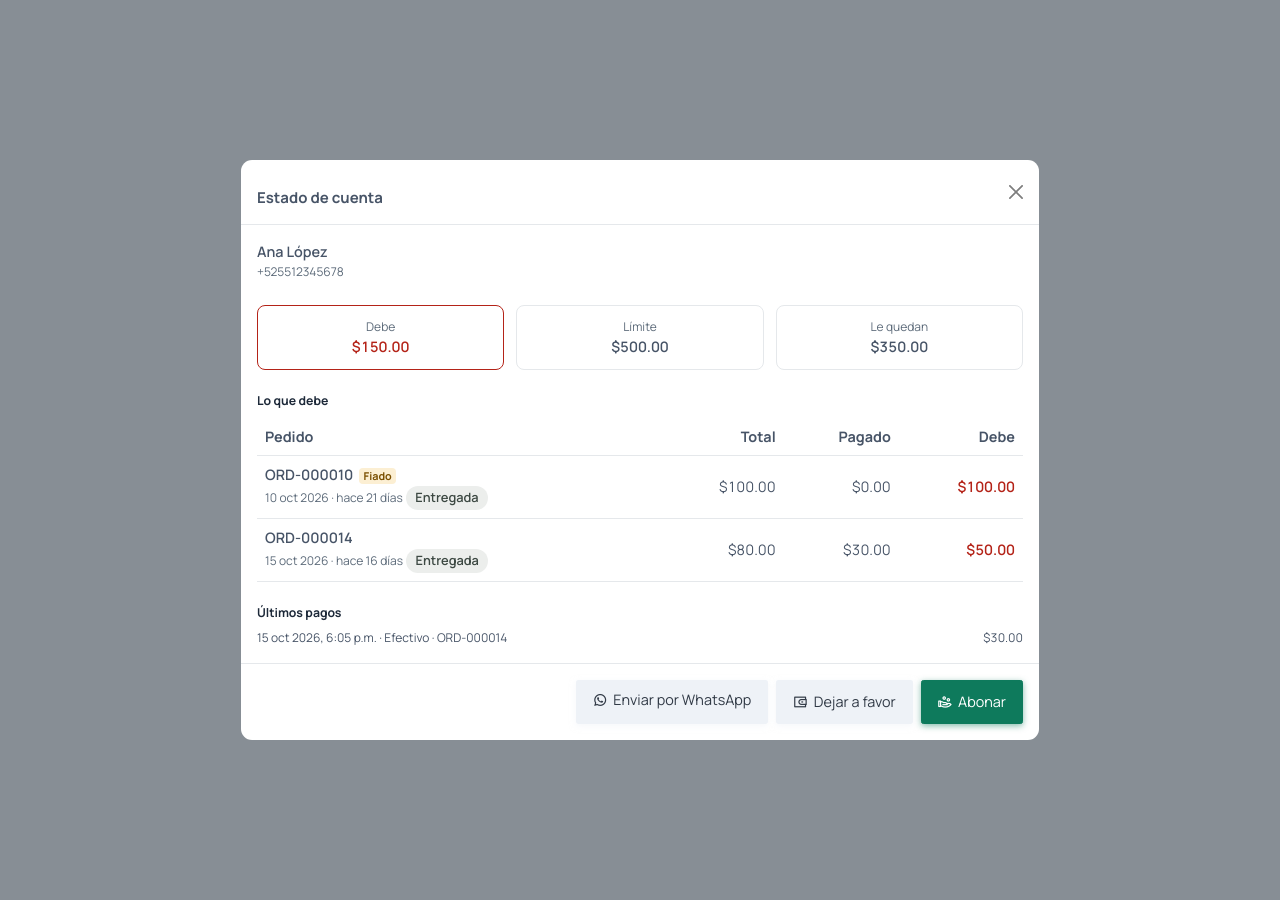
Scenario: CustomerAccountModal › keeps the panel with the server’s reason when the payment is refused
Click the button "Abonar": {"x": 972, "y": 702} [921, 680, 1023, 724]
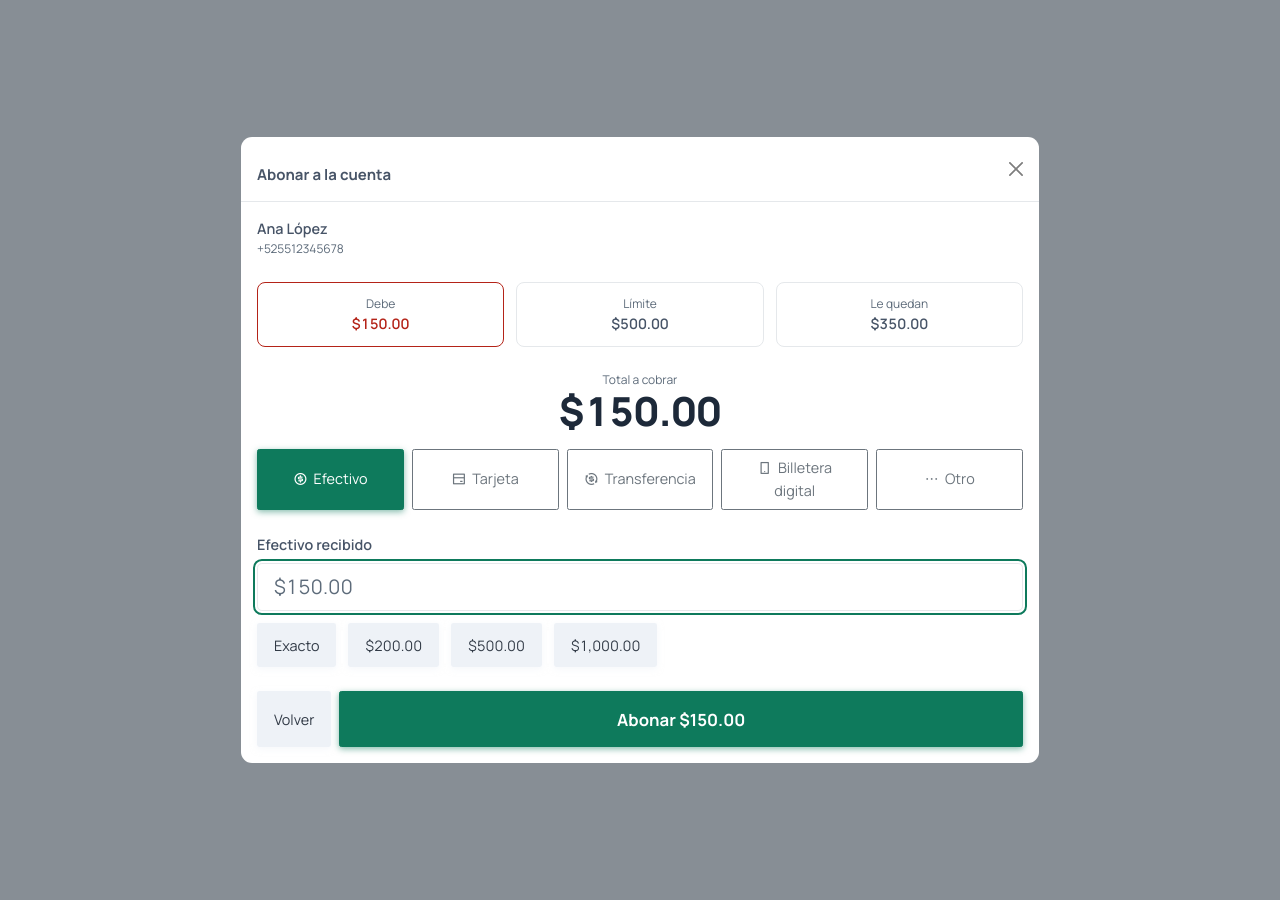
Click the button "Abonar $150.00": {"x": 681, "y": 719} [339, 691, 1023, 747]
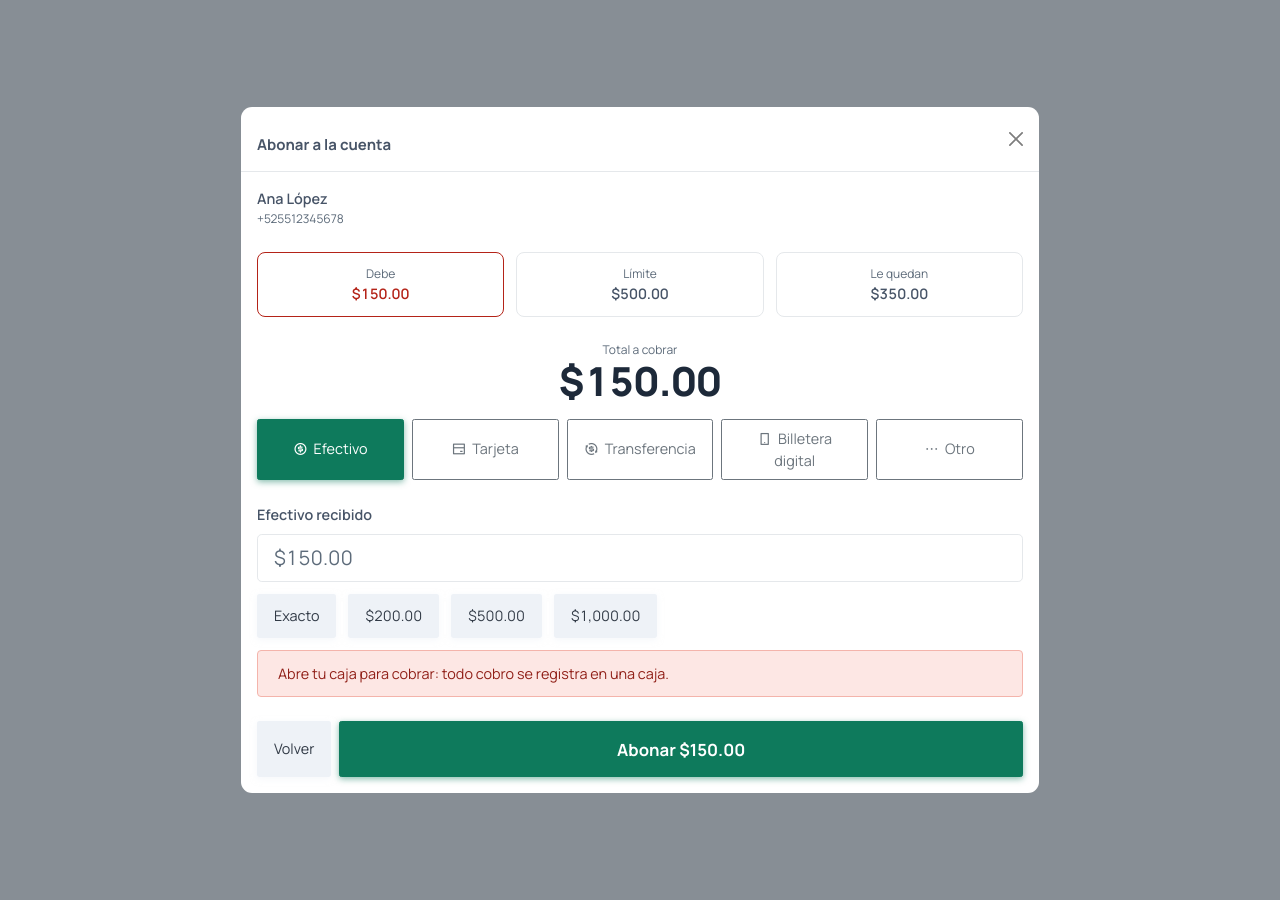
expect the text "Abre tu caja para cobrar" is shown: met, box [278, 664, 669, 683]
